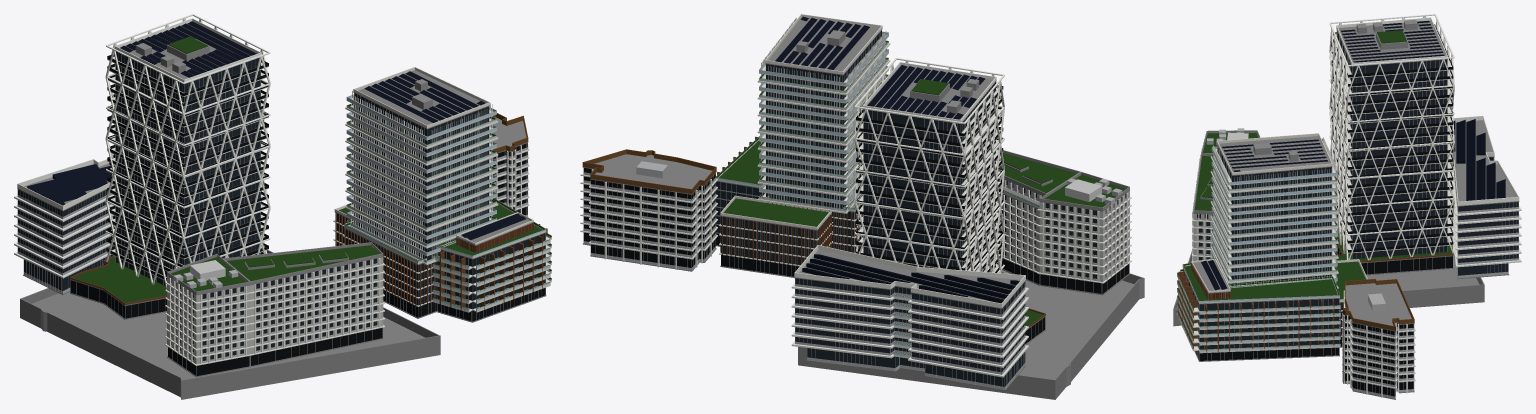
Rendered from scheme.obj.
3 renders of one model, left to right at view 1: azimuth 30°, elevation 25°; view 2: azimuth 150°, elevation 25°; view 3: azimuth 270°, elevation 25°, orthographic. The views are drawn at different scales.
Parts seen in each view (by area): view 1: U-B2_slab, A_diagrid_face_1, A_diagrid_face_2, A_diagrid_ring_beams, A_PV_array, U-B2_ext_wall_5, U-B1_ext_wall_5, B_PV_array, A0_green_roof, D_sawtooth_roof, C2_green_roof, B_roof_slab (+86 smaller); view 2: U-B2_slab, A_diagrid_face_1, A_diagrid_face_4, D_sawtooth_roof, A_diagrid_ring_beams, A_PV_array, D_parapet, E_roof_slab, B_PV_array, D-GF_curtain_wall, D_roof_slab, B_roof_slab (+74 smaller); view 3: A_diagrid_face_3, A_diagrid_face_2, A_diagrid_ring_beams, D_sawtooth_roof, B_roof_slab, A_roof_slab, E_roof_slab, B2-PH_terrace_green, A_PV_array, U-B2_slab, D_roof_slab, B_PV_array (+104 smaller).
Part boxes in pixels (x1,y1,x2,y2): U-B2_slab: [20, 292, 440, 390]; A_diagrid_face_1: [105, 50, 183, 289]; A_diagrid_face_2: [183, 56, 270, 263]; A_diagrid_ring_beams: [106, 14, 270, 267]; A_PV_array: [120, 21, 256, 77]; U-B2_ext_wall_5: [181, 335, 440, 389]; U-B1_ext_wall_5: [181, 345, 440, 398]; B_PV_array: [364, 71, 485, 122]; A0_green_roof: [73, 257, 166, 303]; D_sawtooth_roof: [27, 154, 114, 205]; C2_green_roof: [227, 245, 379, 281]; B_roof_slab: [353, 70, 490, 129]; U-B2_slab: [798, 270, 1144, 389]; A_diagrid_face_1: [964, 81, 1004, 273]; A_diagrid_face_4: [854, 109, 964, 270]; D_sawtooth_roof: [802, 254, 1019, 303]; A_diagrid_ring_beams: [854, 58, 1004, 272]; A_PV_array: [867, 65, 985, 119]; D_parapet: [794, 245, 1025, 308]; E_roof_slab: [582, 154, 716, 194]; B_PV_array: [775, 16, 869, 69]; D-GF_curtain_wall: [807, 348, 1025, 386]; D_roof_slab: [794, 250, 1025, 308]; B_roof_slab: [765, 17, 882, 75]; A_diagrid_face_3: [1347, 58, 1454, 260]; A_diagrid_face_2: [1329, 27, 1348, 259]; A_diagrid_ring_beams: [1329, 14, 1454, 255]; D_sawtooth_roof: [1451, 119, 1505, 200]; B_roof_slab: [1217, 136, 1332, 175]; A_roof_slab: [1336, 20, 1447, 66]; E_roof_slab: [1343, 283, 1414, 331]; B2-PH_terrace_green: [1185, 265, 1337, 300]; A_PV_array: [1341, 20, 1444, 62]; U-B2_slab: [1173, 255, 1484, 317]; D_roof_slab: [1453, 120, 1519, 206]; B_PV_array: [1222, 139, 1327, 171].
Bounding box in the file's own units: 184 × 92.35 × 126.
